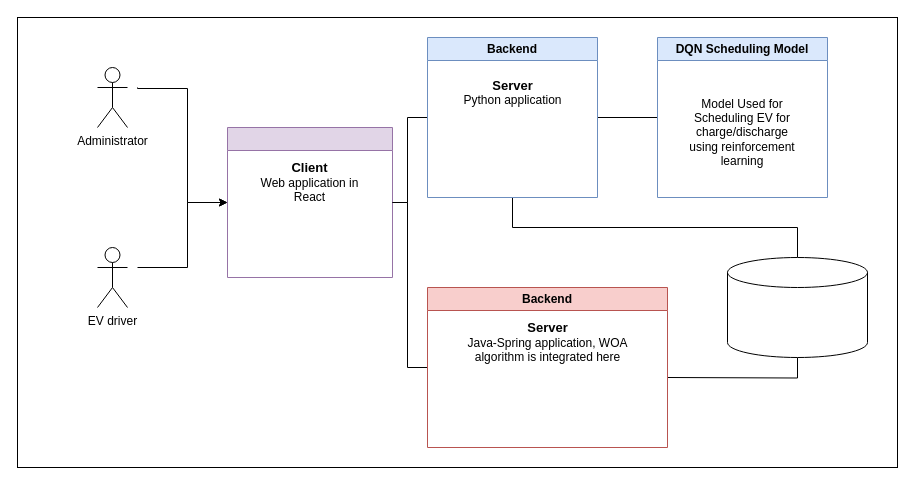
Some shapes in this 915 by 485 pixel diagram are drawn without their labels. Here are the shapes that lost their labels. From the top down, the box of each, then its label:
(226, 126, 392, 278): Frontend
(726, 256, 868, 358): Postgres Database
